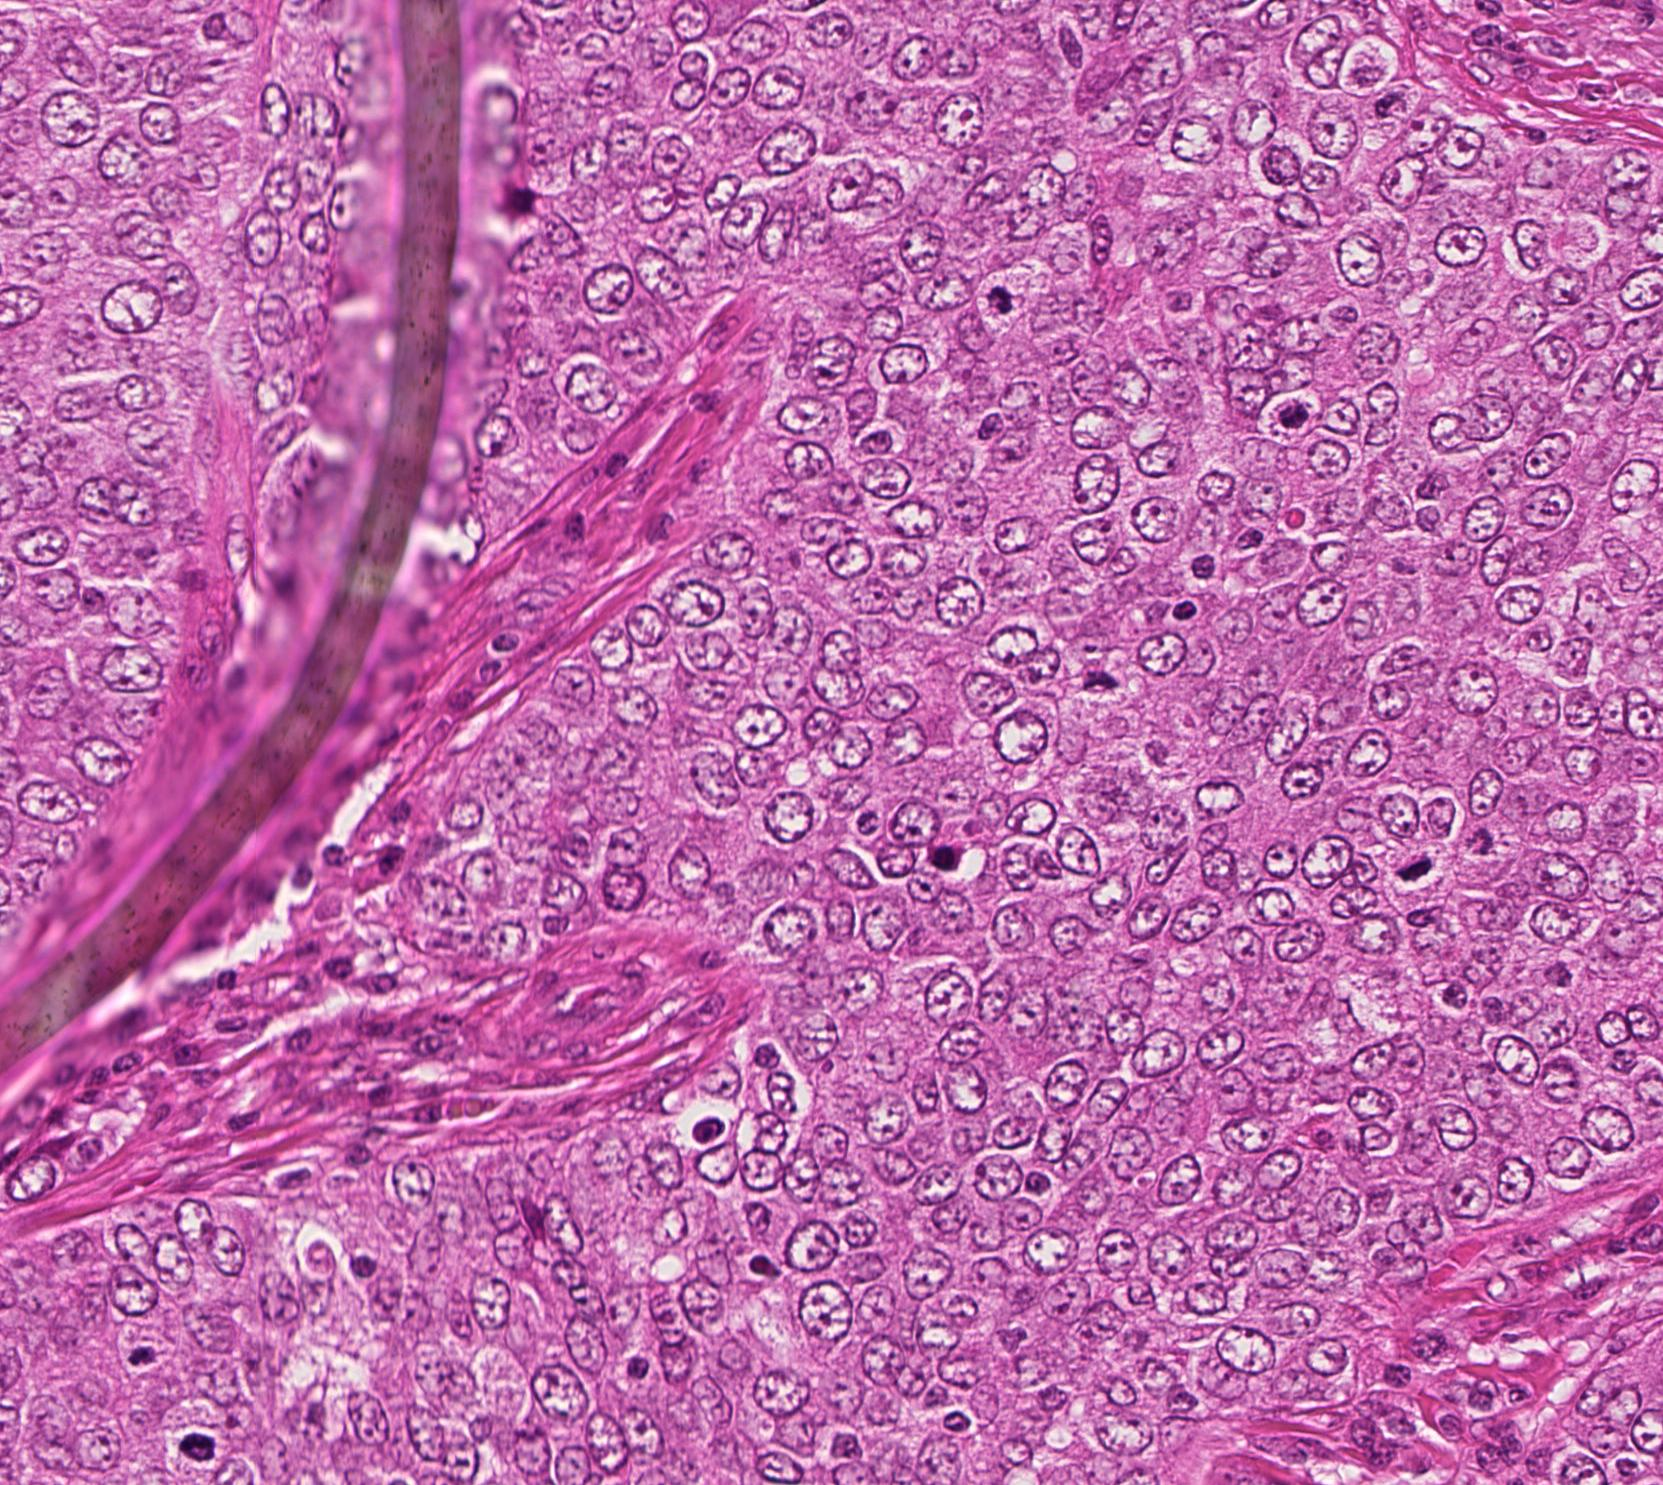mitosis: (1381, 834, 1441, 894), (112, 1324, 172, 1385), (973, 268, 1034, 328), (1069, 667, 1130, 727), (162, 1418, 222, 1476), (1457, 814, 1515, 874)
